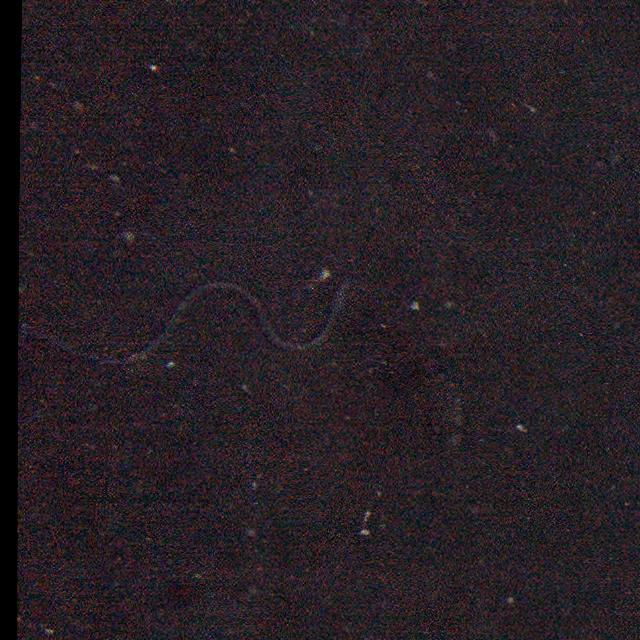eel: (28, 275, 357, 372)
